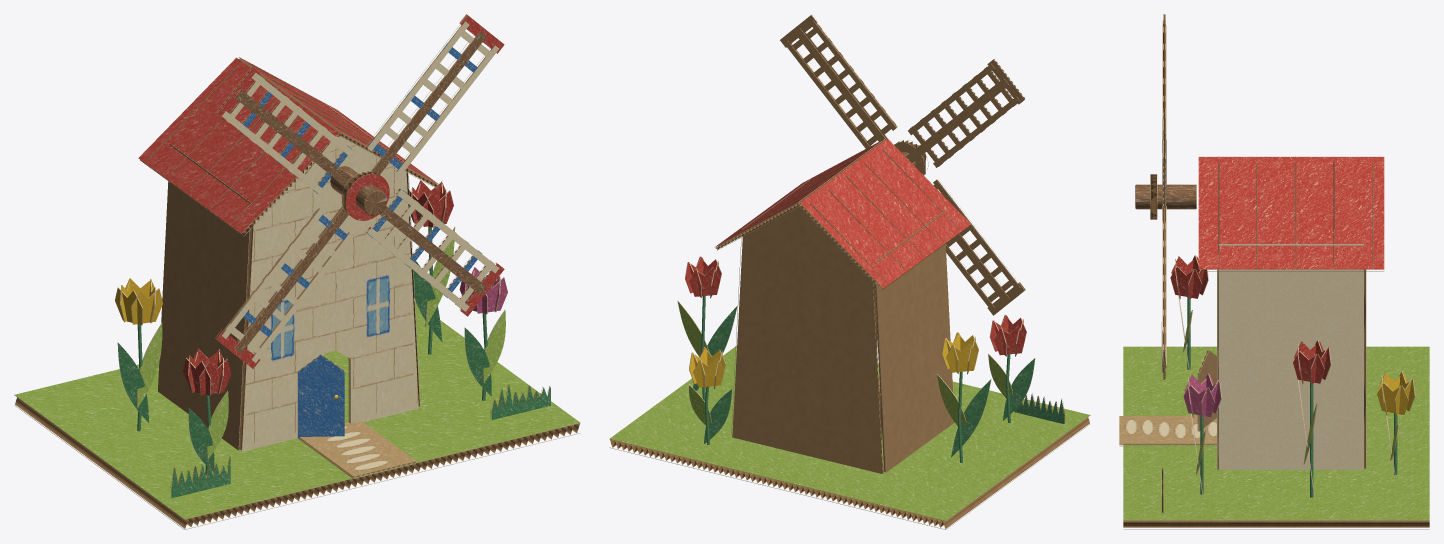
Rendered from 14_tulip_windmill.glb.
The picture shows the model from 3 angles, left to right: view 1: azimuth 30°, elevation 25°; view 2: azimuth 150°, elevation 25°; view 3: azimuth 270°, elevation 25°; orthographic projection. The views are drawn at different scales.
Parts seen in each view (by area): view 1: lime, artwork_14_tulip_windmill, red, kraft, cream, flute, brown, edge, green, blue, yellow, pink; view 2: kraft, lime, red, flute, edge, green, yellow, brown; view 3: lime, cream, red, edge, flute, artwork_14_tulip_windmill, brown, yellow, pink, green, kraft.
Part boxes in pixels (x1,y1,x2,y2): lime: (14,227,580,519); artwork_14_tulip_windmill: (242,136,418,476); red: (138,15,504,395); kraft: (158,144,348,450); cream: (222,21,499,362); flute: (15,14,579,528); brown: (147,31,486,353); edge: (14,14,580,529); green: (118,226,550,497); blue: (239,43,481,438); yellow: (115,278,338,399); pink: (459,267,507,313); kraft: (732,15,1024,473); lime: (609,301,1090,520); red: (685,139,1026,356); flute: (610,17,1089,528); edge: (609,14,1090,529); green: (693,296,1064,462); yellow: (689,332,978,388); brown: (722,144,959,282); lime: (1123,311,1429,520); cream: (1218,244,1363,469); red: (1170,157,1384,383); edge: (1119,14,1429,529); flute: (1119,14,1429,527); artwork_14_tulip_windmill: (1119,416,1216,443); brown: (1135,162,1373,266); yellow: (1377,372,1414,415); pink: (1183,374,1221,417); green: (1181,297,1397,497); kraft: (1199,350,1216,431).
Bounding box in the file's own units: 0.47 × 0.4811 × 0.3545.
12 materials, 11 textured.
